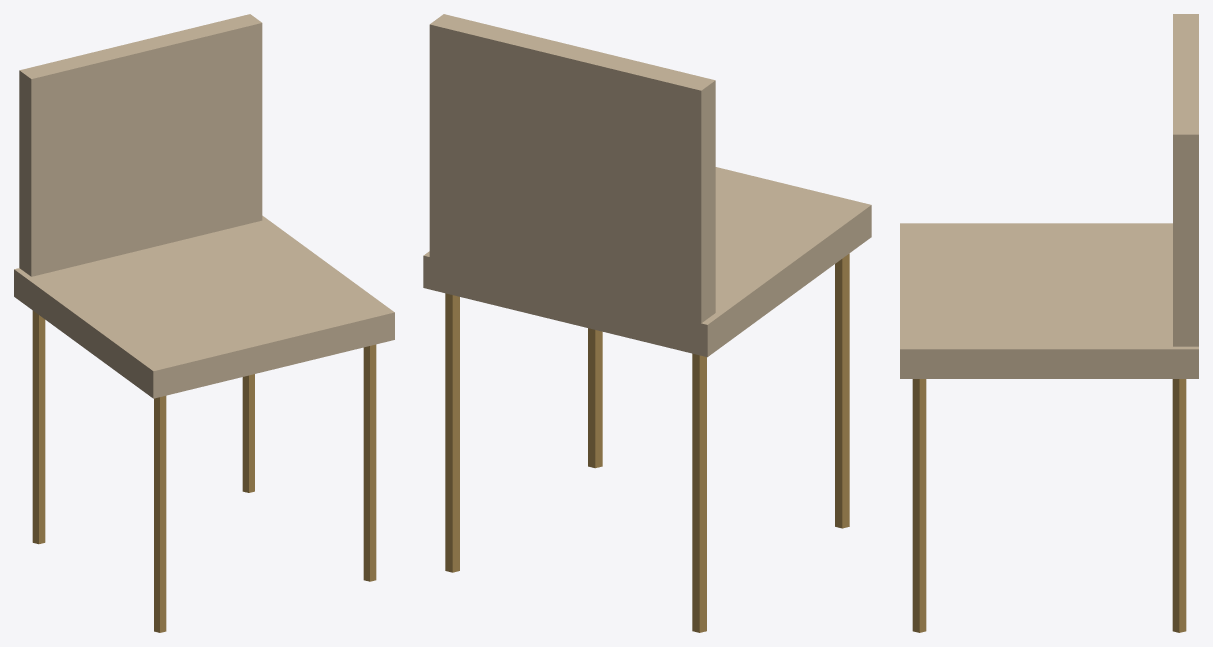
File: cadeira_visita.obj
3 renders of one model, left to right at view 1: azimuth 30°, elevation 25°; view 2: azimuth 150°, elevation 25°; view 3: azimuth 270°, elevation 25°, orthographic. The views are drawn at different scales.
Parts seen in each view (by area): view 1: cadeira_visita; view 2: cadeira_visita; view 3: cadeira_visita.
Part boxes in pixels (x1,y1,x2,y2): cadeira_visita: (14, 14, 394, 632); cadeira_visita: (423, 14, 871, 632); cadeira_visita: (900, 14, 1198, 632).
Size of the model in its own units: 0.46 by 0.85 by 0.46.
